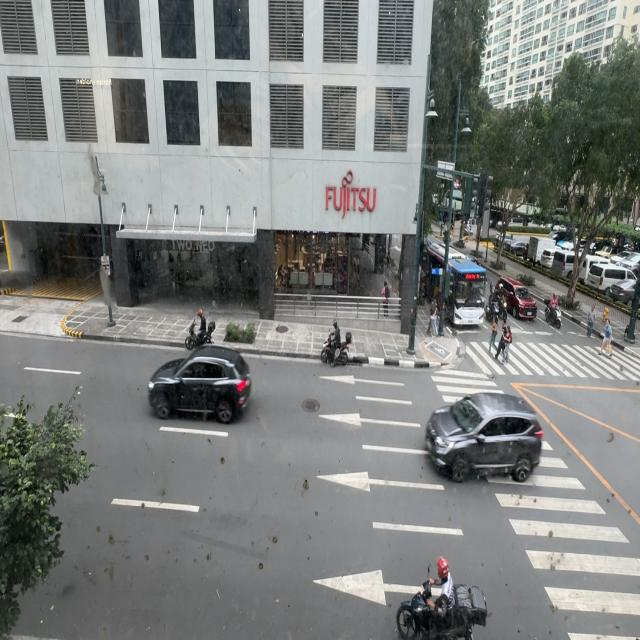crossing: (494, 322, 510, 363), (599, 319, 613, 357), (430, 297, 439, 337), (489, 315, 498, 354)
jaywalking: (586, 303, 596, 338)
